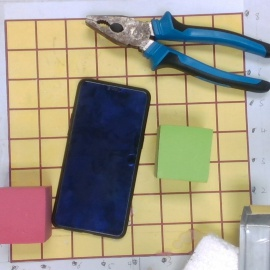phone: (52, 77, 152, 239)
